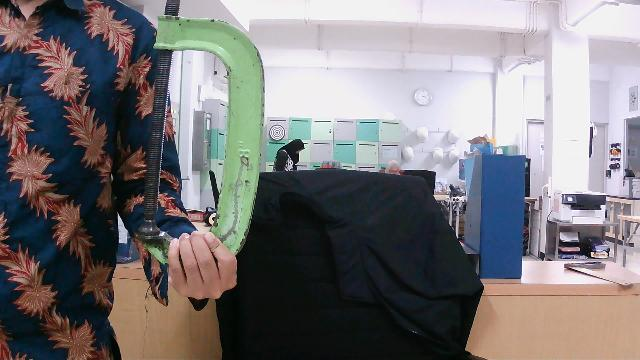tekiro_c_clamp: (125, 0, 269, 315)
